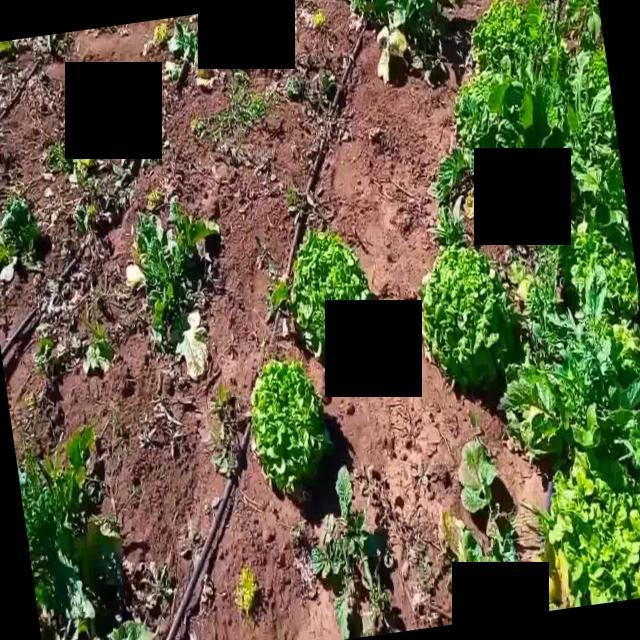Lettuce: (542, 464, 640, 610), (424, 246, 519, 394), (281, 226, 369, 356), (252, 357, 330, 500), (468, 0, 573, 76), (531, 238, 640, 311), (568, 46, 614, 98), (459, 72, 522, 109)
